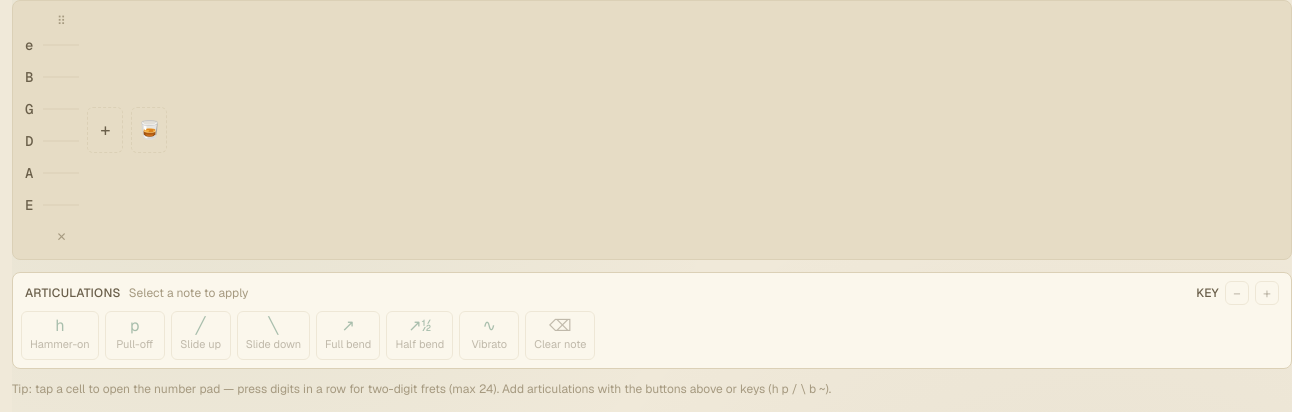
TabEditor › adds a column when '+' is clicked
// Starts with 1 column → 6 cell buttons (6 strings). After '+', 12.
Click the button named "Add column".
click(105, 130)  # box top-left (87, 107), bottom-right (123, 153)
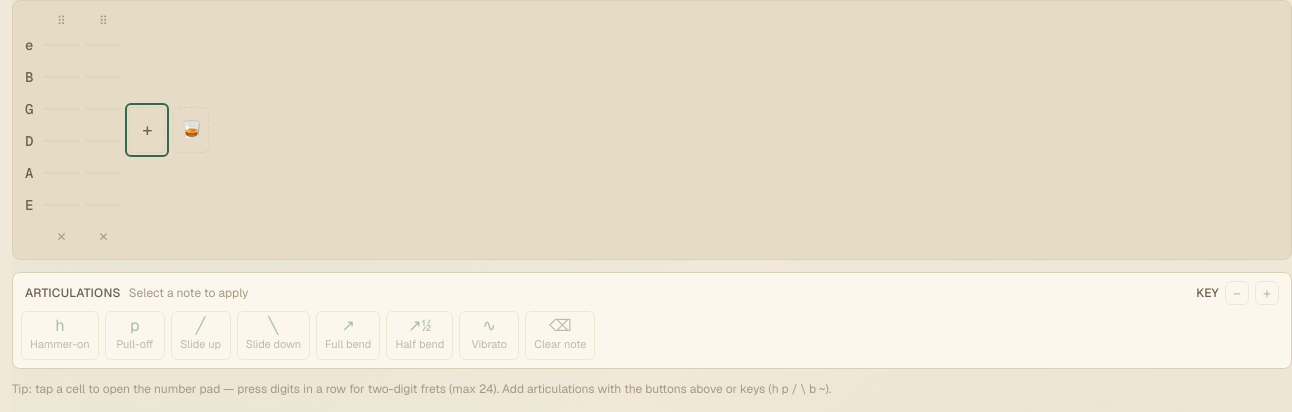
Expected: the number of buttons "·" is 12
